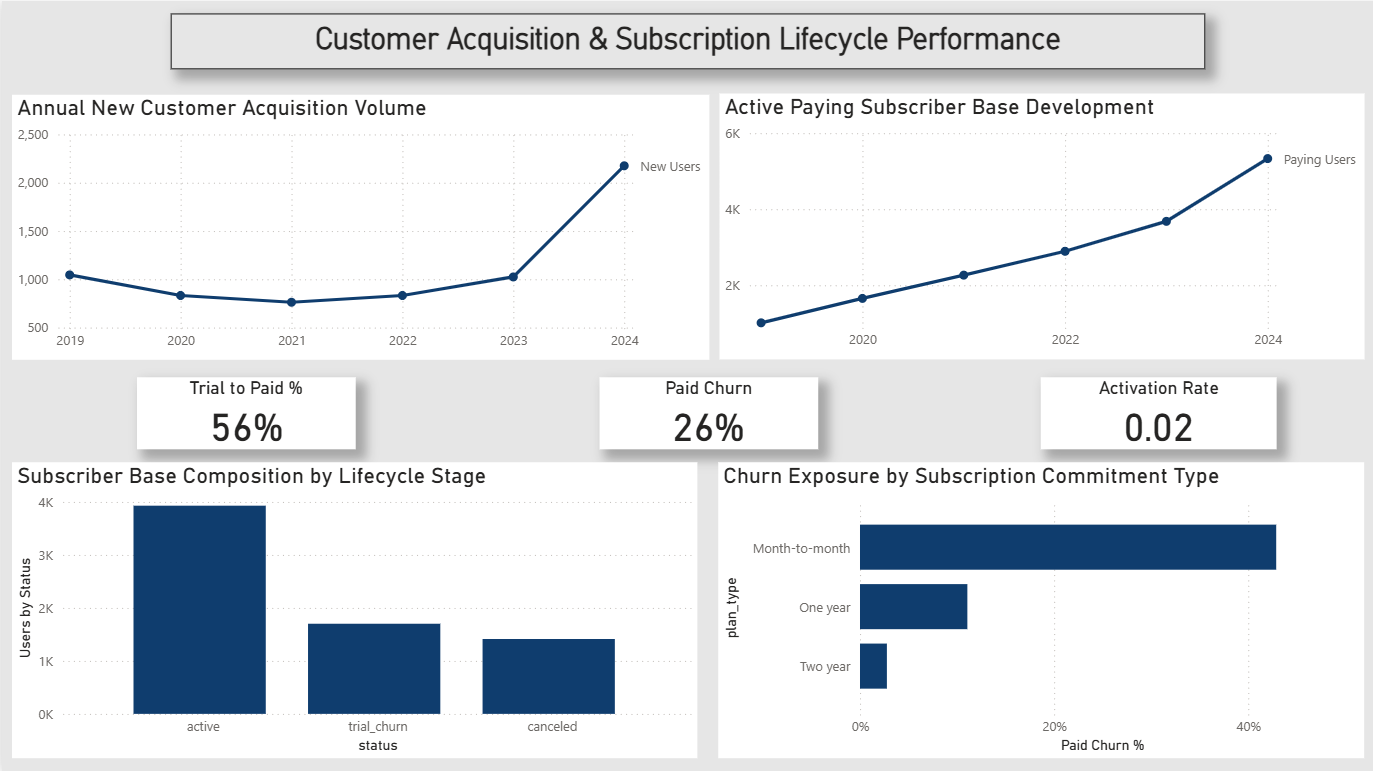

Layout of this report page (visuals, bound fields, positions):
{"tool":"powerbi","page":{"name":"Page 2","canvas":[1280,720],"ordinal":1},"visuals":[{"type":"lineChart","title":"Annual New Customer Acquisition Volume","fields":{"Y":["Table.New Users"],"Category":["DateTable.Column Hierarchy.Year","DateTable.Column Hierarchy.Month"]},"box":[9.7,86.9,650.3,247.3],"z":0},{"type":"lineChart","title":"Active Paying Subscriber Base Development","fields":{"Y":["Table.Paying Users"],"Category":["DateTable.Column Hierarchy.Year","DateTable.Column Hierarchy.Month"]},"box":[668.9,86.8,601.6,248.2],"z":1000},{"type":"card","title":"Trial to Paid %","fields":{"Values":["Table.Trial to Paid %"]},"box":[125.5,351.1,203.9,67.6],"z":2000},{"type":"card","title":"Paid Churn","fields":{"Values":["Table.Paid Churn %"]},"box":[557.5,351,203.7,67.5],"z":3000},{"type":"card","title":"Activation Rate","fields":{"Values":["Table.Activation Rate"]},"box":[969.2,351,220.3,67.5],"z":4000},{"type":"clusteredColumnChart","title":"Subscriber Base Composition by Lifecycle Stage","fields":{"Category":["subscriptions.status"],"Y":["Table.Users by Status"]},"box":[9.7,430.7,639.4,276.3],"z":5000},{"type":"clusteredBarChart","title":"Churn Exposure by Subscription Commitment Type","fields":{"Category":["users.plan_type"],"Y":["Table.Paid Churn %"]},"box":[668.4,430.7,602,276.3],"z":6000},{"type":"textbox","box":[156.8,12.1,965.2,51.9],"z":7001}]}

Visuals, with their boxes in screenshot pixels (x1, y1, x2, y2), scaled from the page's 1280x720 canvas onto the 1373x771 screenshot:
"Annual New Customer Acquisition Volume" lineChart: detection(10, 93, 708, 358)
"Active Paying Subscriber Base Development" lineChart: detection(717, 93, 1363, 359)
"Trial to Paid %" card: detection(135, 376, 353, 448)
"Paid Churn" card: detection(598, 376, 817, 448)
"Activation Rate" card: detection(1040, 376, 1276, 448)
"Subscriber Base Composition by Lifecycle Stage" clusteredColumnChart: detection(10, 461, 696, 757)
"Churn Exposure by Subscription Commitment Type" clusteredBarChart: detection(717, 461, 1363, 757)
textbox: detection(168, 13, 1204, 69)
